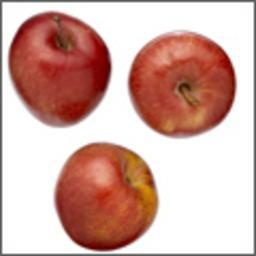apple: (7, 10, 113, 129), (128, 29, 237, 138), (52, 141, 159, 250)
